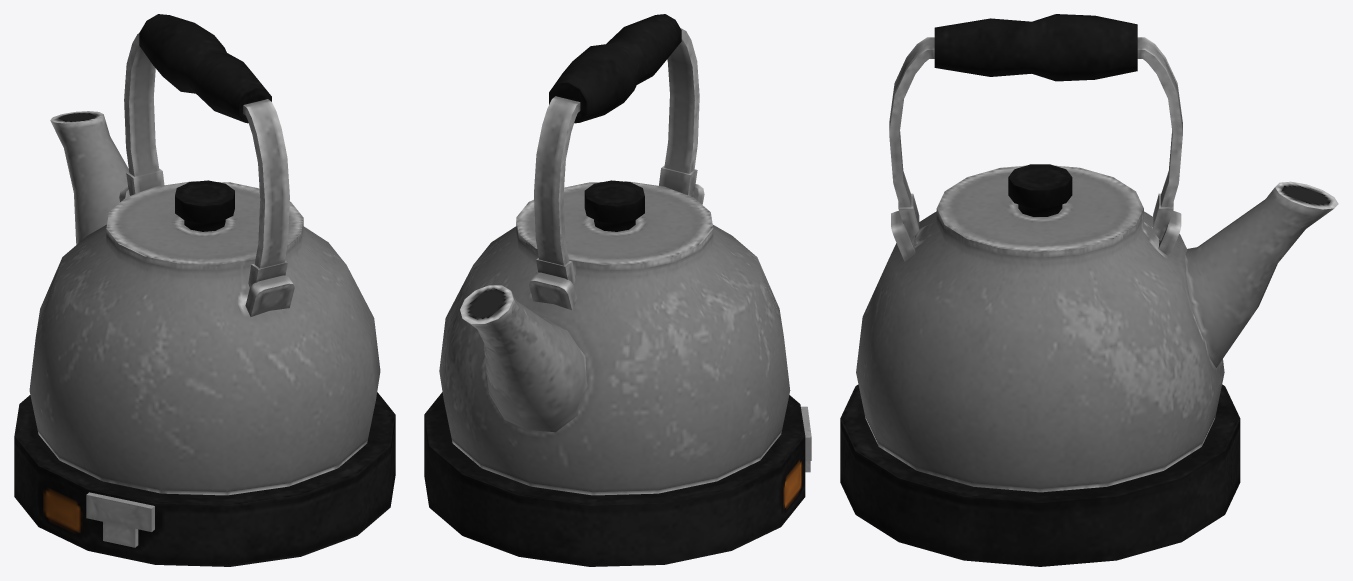
File: CP_Teapot.fbx
3 views of the same model, side by side, from view 1: azimuth 30°, elevation 25°; view 2: azimuth 150°, elevation 25°; view 3: azimuth 270°, elevation 25° (orthographic). The views are drawn at different scales.
Visible parts, largest first — view 1: CP_Teapot_LOD0; view 2: CP_Teapot_LOD0; view 3: CP_Teapot_LOD0.
Boxes of the visible parts, x1,y1,x2,y2 form: CP_Teapot_LOD0: [14, 14, 395, 566]; CP_Teapot_LOD0: [424, 14, 811, 566]; CP_Teapot_LOD0: [840, 14, 1338, 566].
Size of what is drawn, in the model's own units: 31.35 by 40.27 by 39.06.
